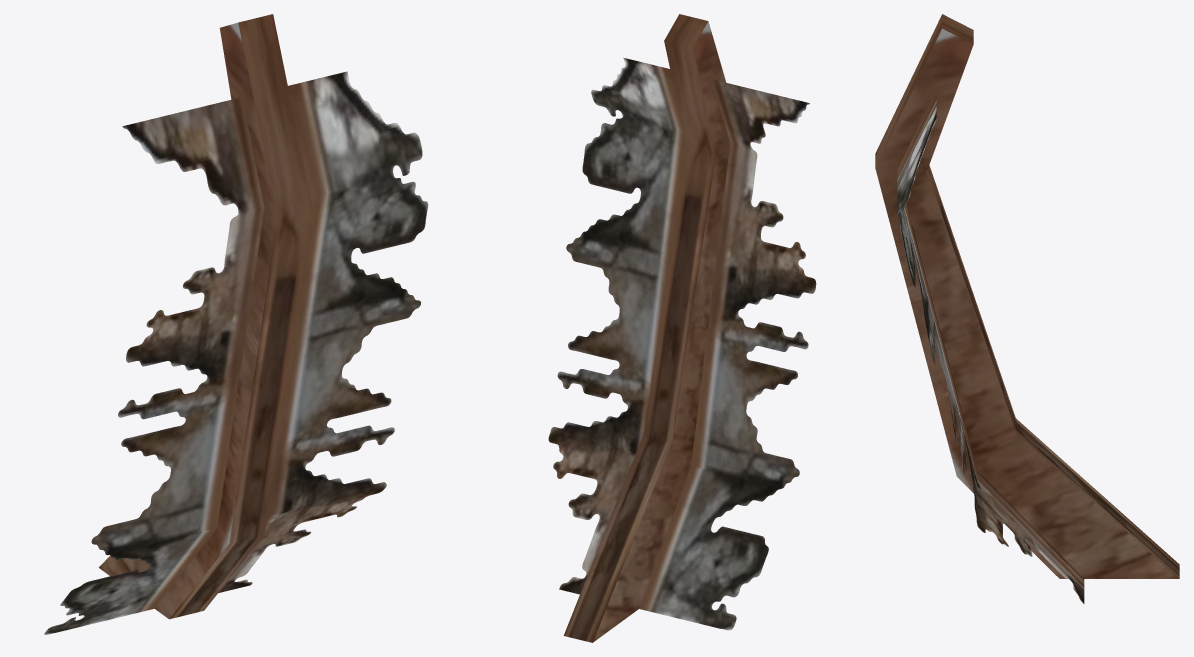
The model's file is junk6_hdtex.glb.
3 views of the same model, side by side, from view 1: azimuth 30°, elevation 25°; view 2: azimuth 150°, elevation 25°; view 3: azimuth 270°, elevation 25° (orthographic). The views are drawn at different scales.
Parts seen in each view (by area): view 1: Junk6; view 2: Junk6; view 3: Junk6.
Part boxes in pixels (left/top/right/bottom): Junk6: left=44, top=14, right=428, bottom=634; Junk6: left=548, top=14, right=816, bottom=642; Junk6: left=875, top=14, right=1179, bottom=603.
Size of the model in its own units: 5.45 by 10.23 by 5.13.
Materials: 1 (1 with a texture image).
